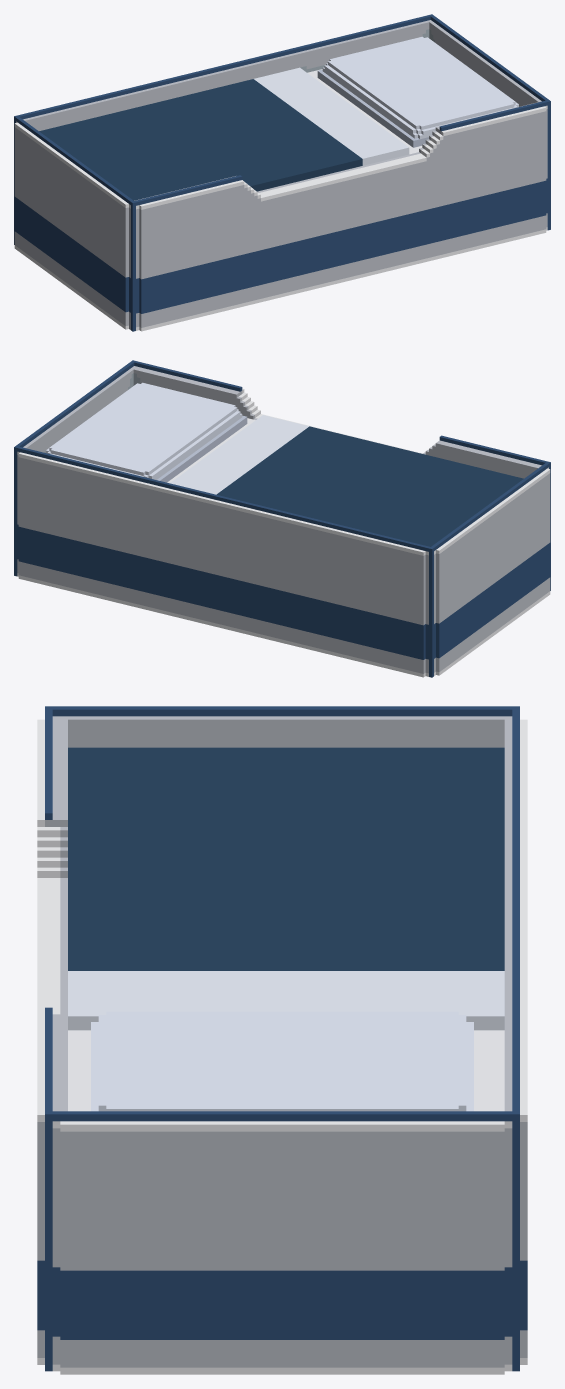
Rendered from Bed.obj.
3 renders of one model, top to bottom at view 1: azimuth 30°, elevation 25°; view 2: azimuth 150°, elevation 25°; view 3: azimuth 270°, elevation 25°, orthographic. The views are drawn at different scales.
Size of the model in its own units: 12.8 by 3.7 by 6.4.
1 material, 1 textured.
